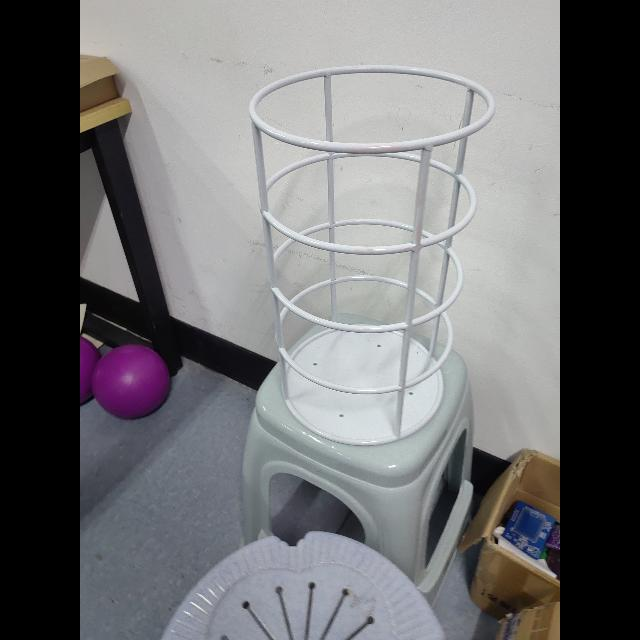S: (246, 64, 498, 448)
